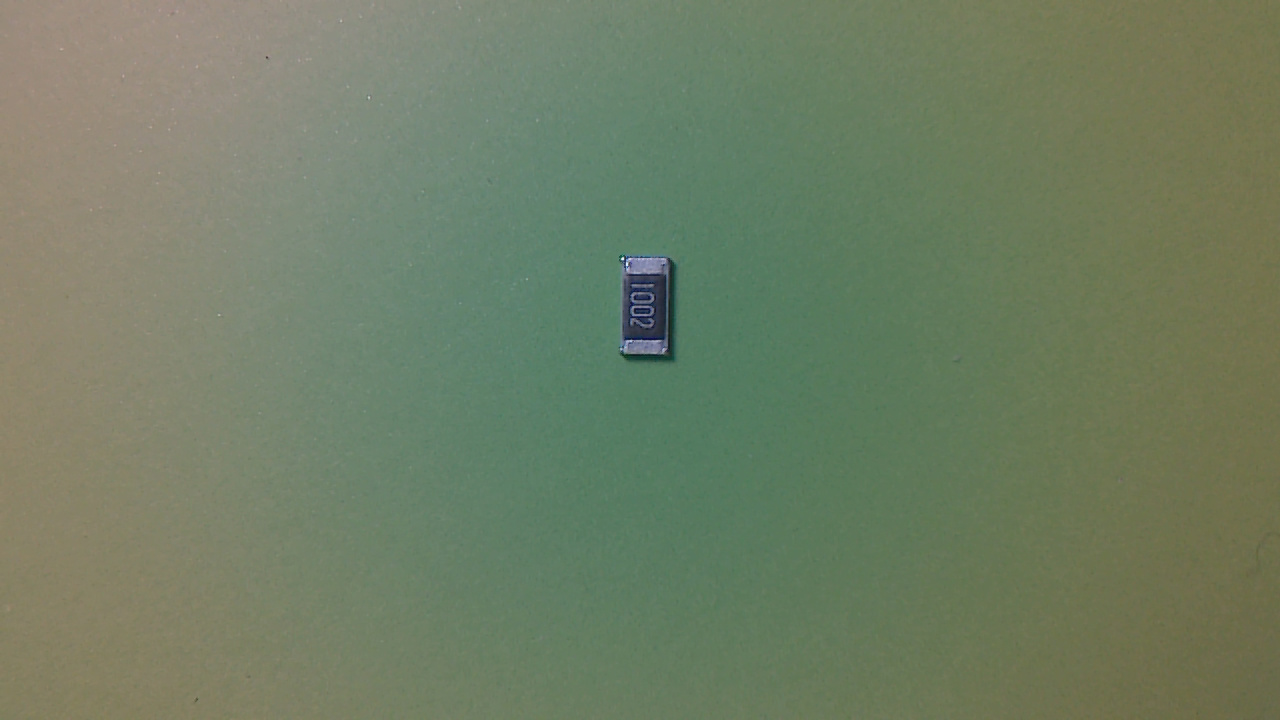Resistor: (619, 257, 685, 372)
